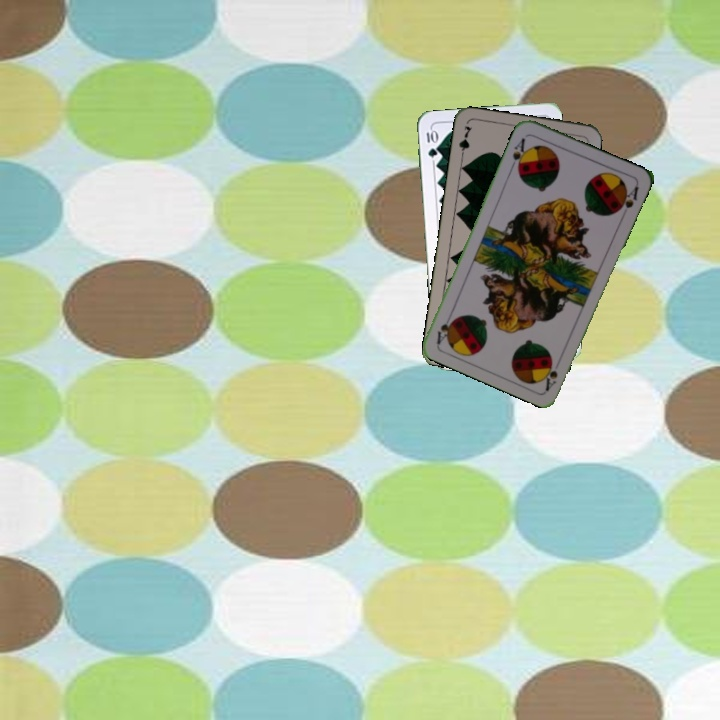G10: (422, 126, 439, 160)
G7: (455, 122, 475, 162)
SA: (507, 134, 530, 173), (540, 356, 560, 393)
